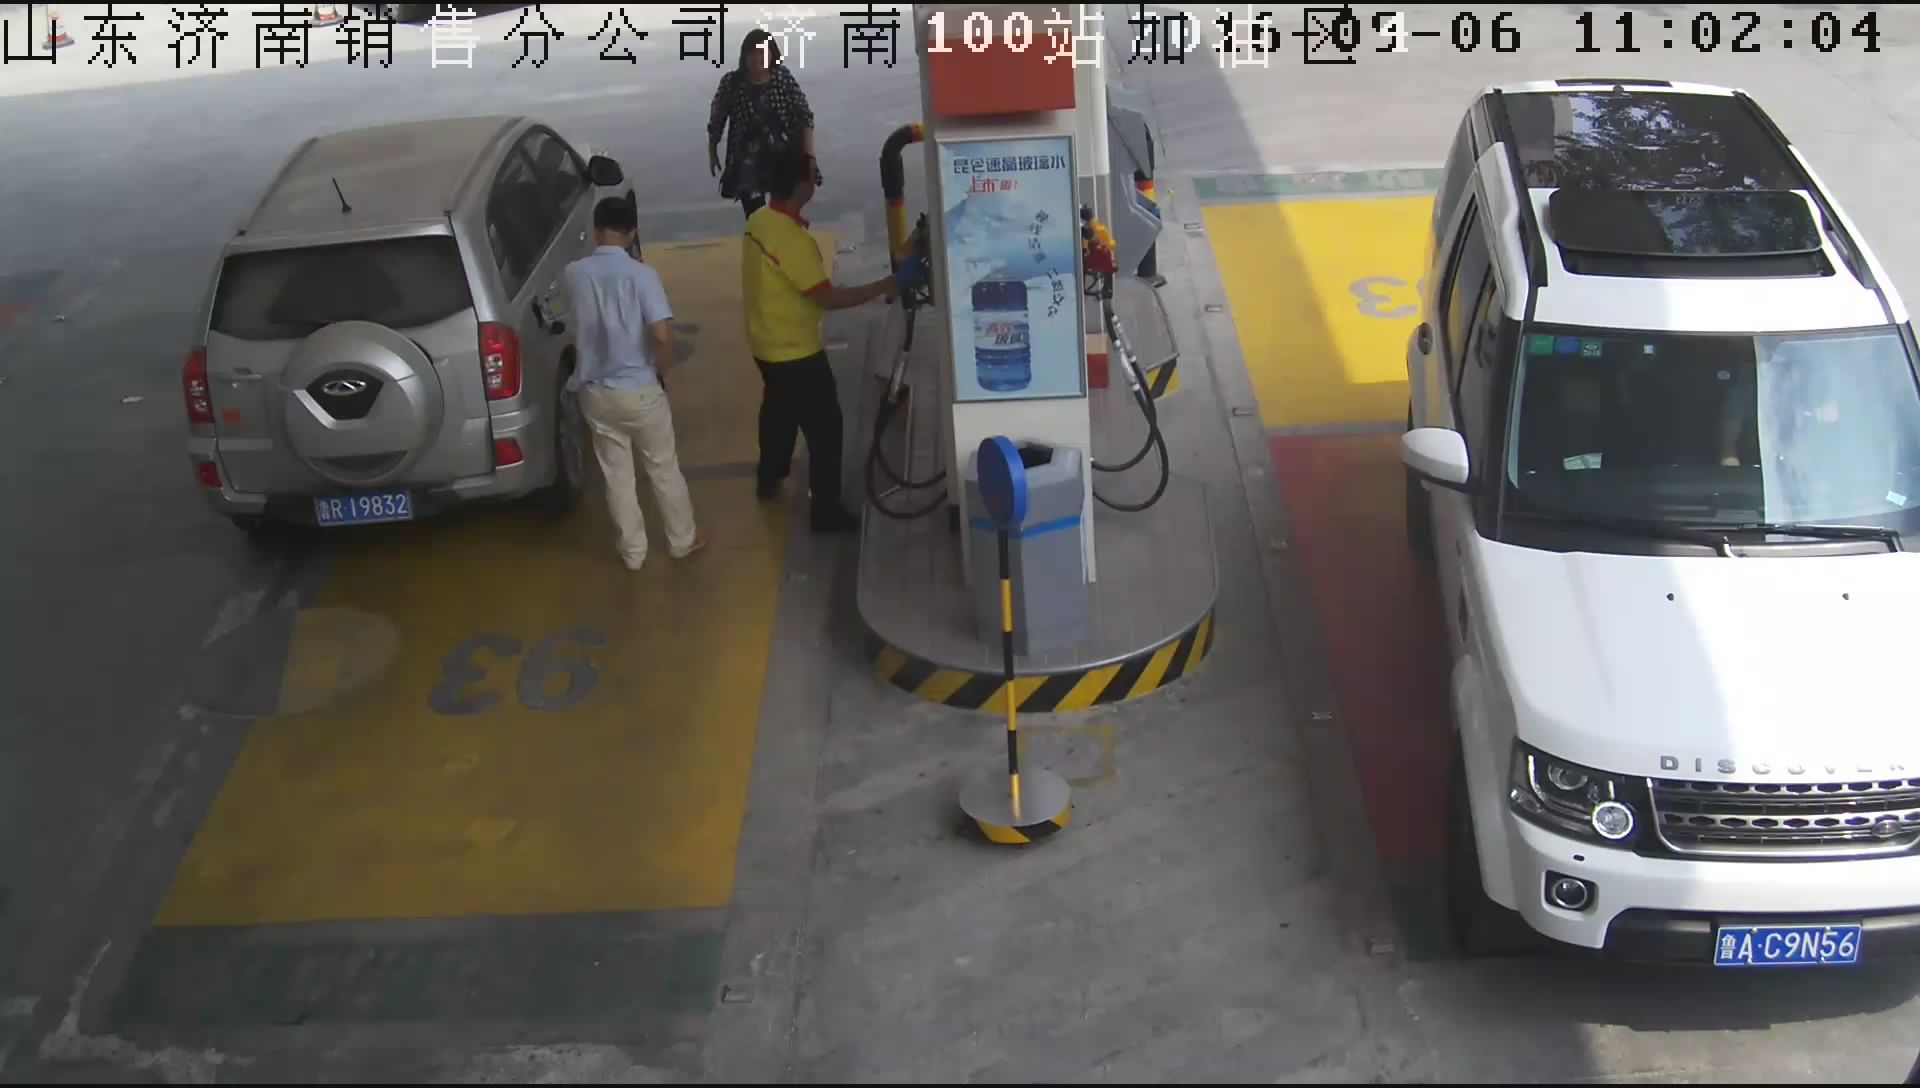blue: (313, 488, 417, 530)
